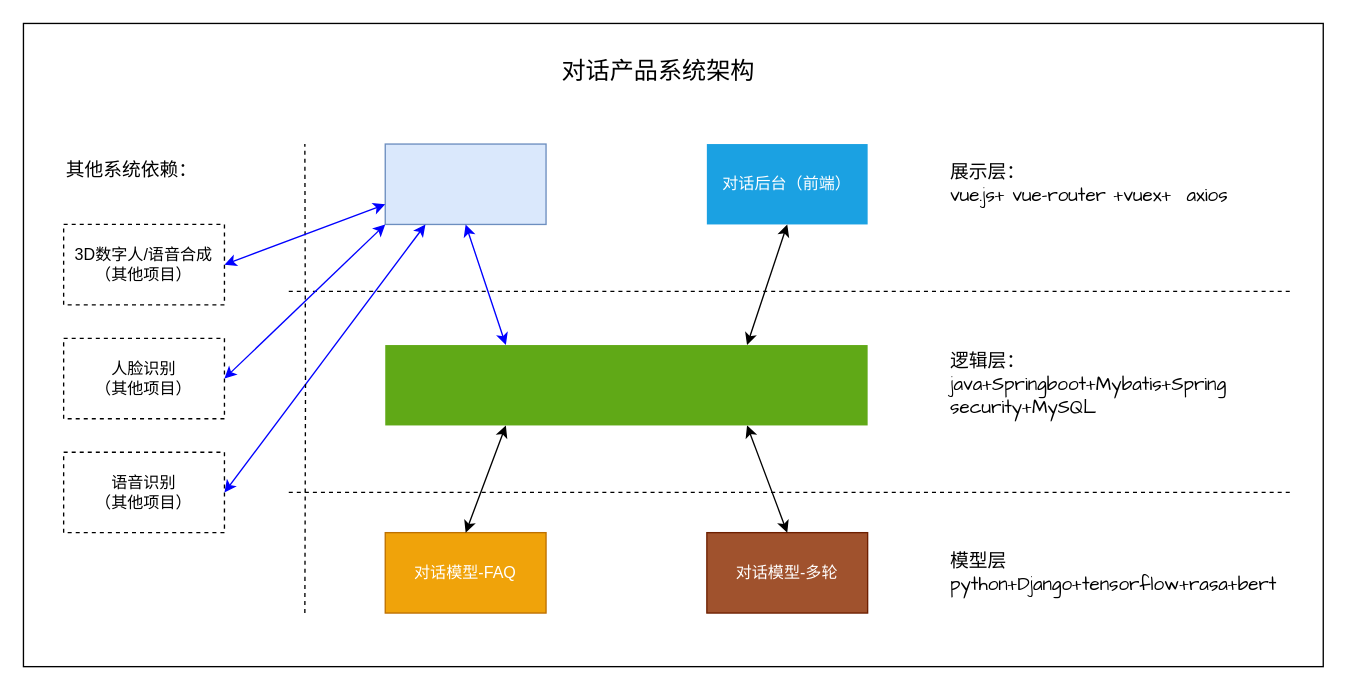
Image size: 1347x690. Some labels were removed from this diagram. Each missing label, with the centre of its shape:
"对话交互（前端）" belongs at (x=465, y=183).
"对话后台（后端）" belongs at (x=626, y=384).
